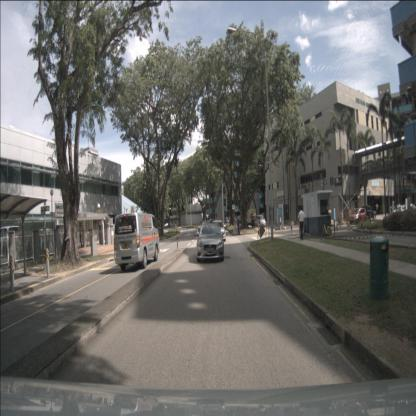human-pedestrian-adult: (297, 207, 305, 240), (236, 217, 241, 235), (250, 213, 254, 228), (375, 202, 379, 215)
vehicle-bicycle: (320, 220, 332, 238)
vehicle-car: (113, 212, 160, 271), (197, 223, 224, 262), (0, 225, 21, 258), (211, 220, 226, 242), (349, 208, 367, 225), (361, 206, 376, 220), (255, 215, 266, 227), (393, 206, 405, 217)
vehicle-truck: (247, 209, 257, 225)
